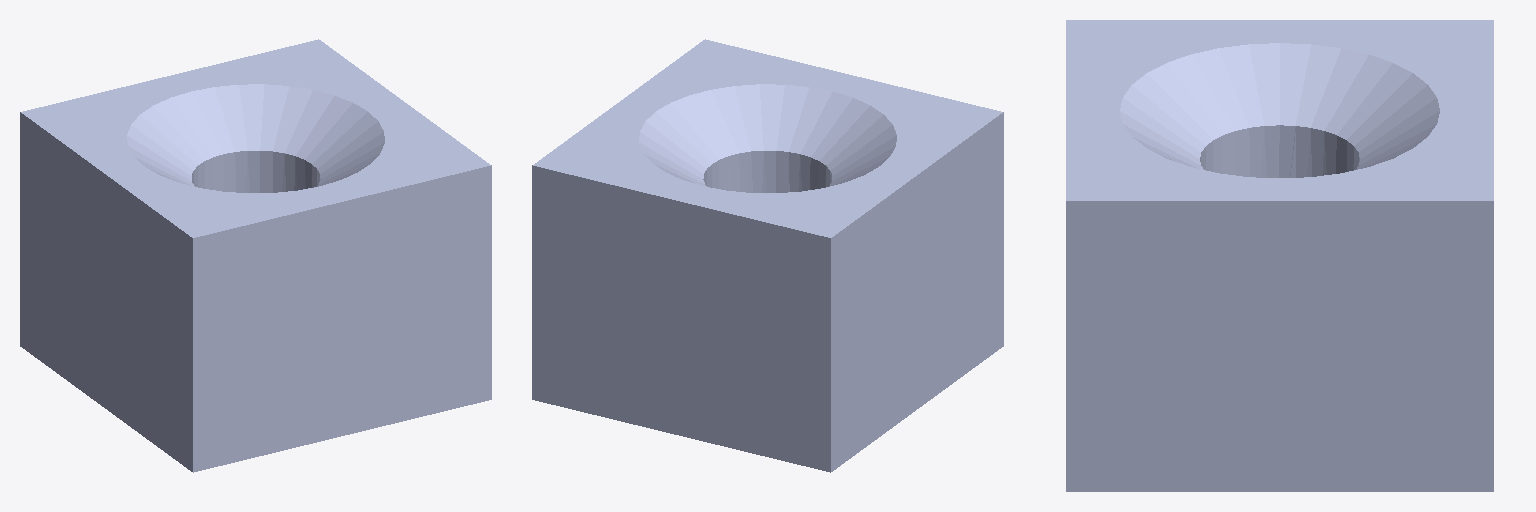
robot.urdf — Single.SLDPRT:
<?xml version="1.0" encoding="utf-8"?>
<!-- This URDF was automatically created by SolidWorks to URDF Exporter! Originally created by [author] ([email redacted]) 
     Commit Version: 1.5.1-0-g916b5db  Build Version: 1.5.7152.31018
     For more information, please see http://wiki.ros.org/sw_urdf_exporter -->
<robot
  name="Single.SLDPRT">
  <link
    name="Single.SLDPRT">
    <inertial>
      <origin
        xyz="6.9588E-18 1.74902694879012E-17 0.028732"
        rpy="0 0 0" />
      <mass
        value="0.33923" />
      <inertia
        ixx="0.0003003"
        ixy="-9.3675E-21"
        ixz="-8.55510000000057E-24"
        iyy="0.0003003"
        iyz="1.26519958471643E-20"
        izz="0.00040149" />
    </inertial>
    <visual>
      <origin
        xyz="0 0 0"
        rpy="1.5707963267949 0 0" />
      <geometry>
        <mesh
          filename="package://Single.SLDPRT/meshes/Single.SLDPRT.STL" />
      </geometry>
      <material
        name="">
        <color
          rgba="0.79216 0.81961 0.93333 1" />
        <texture
          filename="package://Single.SLDPRT/textures/" />
      </material>
    </visual>
    <collision>
      <origin
        xyz="0 0 0"
        rpy="1.5707963267949 0 0" />
      <geometry>
        <mesh
          filename="package://Single.SLDPRT/meshes/Single.SLDPRT.STL" />
      </geometry>
    </collision>
  </link>
</robot>

--- Render facts (derived) ---
3 views of the same robot in one strip: view 1: azimuth 30°, elevation 25°; view 2: azimuth 150°, elevation 25°; view 3: azimuth 270°, elevation 25° (orthographic).
Model Single.SLDPRT with 1 links and 0 joints (none), rooted at Single.SLDPRT, posed every joint at zero.
Visible links, largest first — view 1: Single.SLDPRT; view 2: Single.SLDPRT; view 3: Single.SLDPRT.
Boxes of the visible links, left/top/right/bottom form: Single.SLDPRT: left=20, top=39, right=491, bottom=472; Single.SLDPRT: left=532, top=39, right=1003, bottom=472; Single.SLDPRT: left=1066, top=20, right=1493, bottom=491.
Size in the robot's own frame: 0.08 by 0.08 by 0.06 metres.
1 mesh visuals loaded from 1 distinct referenced files (1 binary STL).